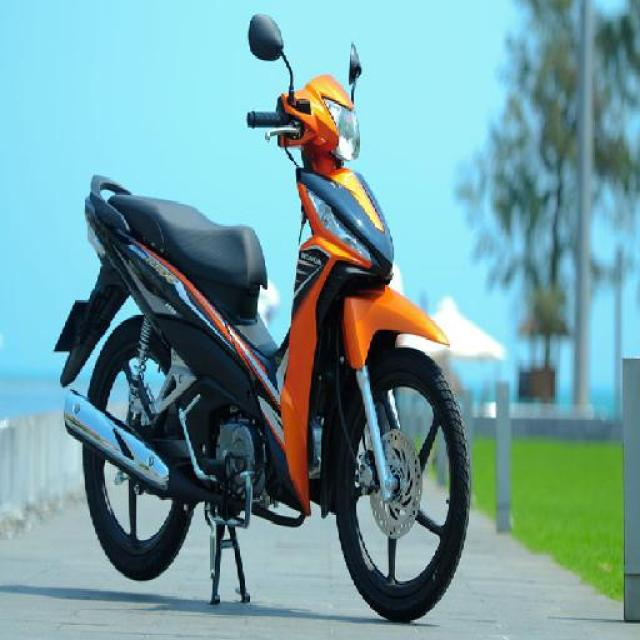All: (48, 64, 482, 625)
Head: (246, 74, 365, 165)
Tail: (76, 170, 145, 260)
